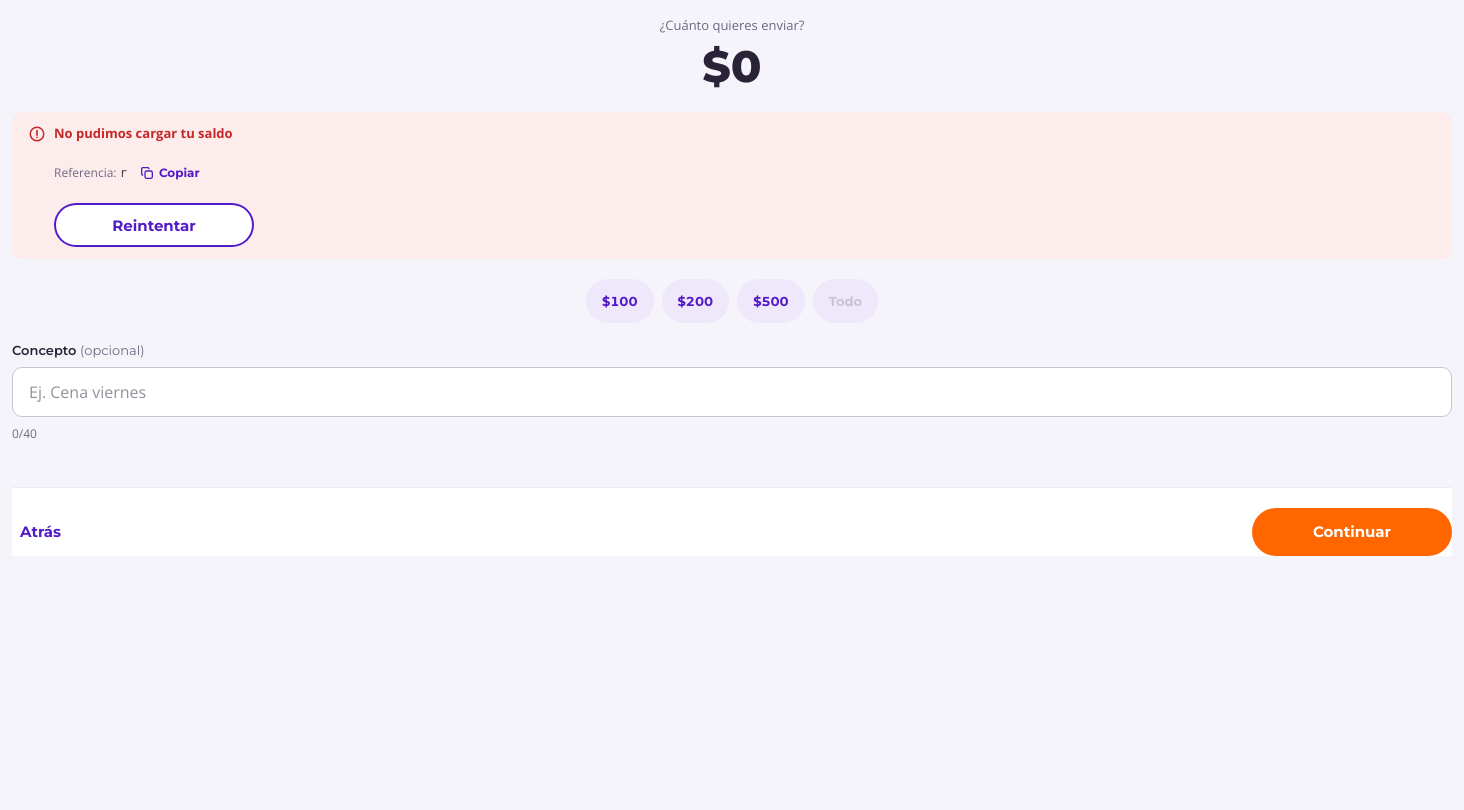
AmountStep › retries the balance from the error alert
The image size is (1464, 810).
Expected: the field labelled "¿Cuánto quieres enviar?" is shown, [731, 40, 762, 92]
What coordinates should you click on to do the following:
click the button "Reintentar"
I would click on:
 (154, 225)
Its box is [54, 203, 254, 247].
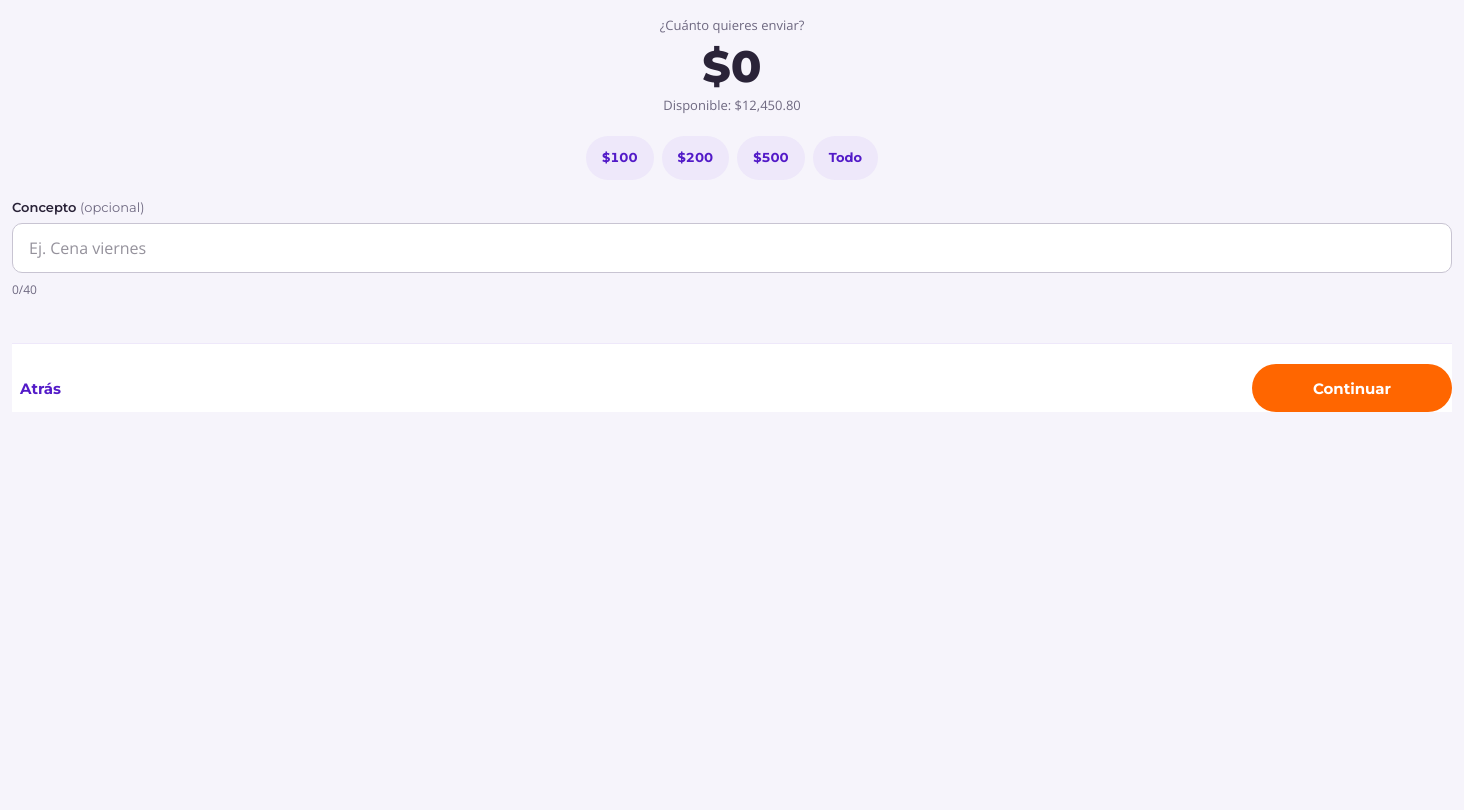
Expected: the text "Disponible: $12,450.80" is shown, [663, 96, 801, 116]
